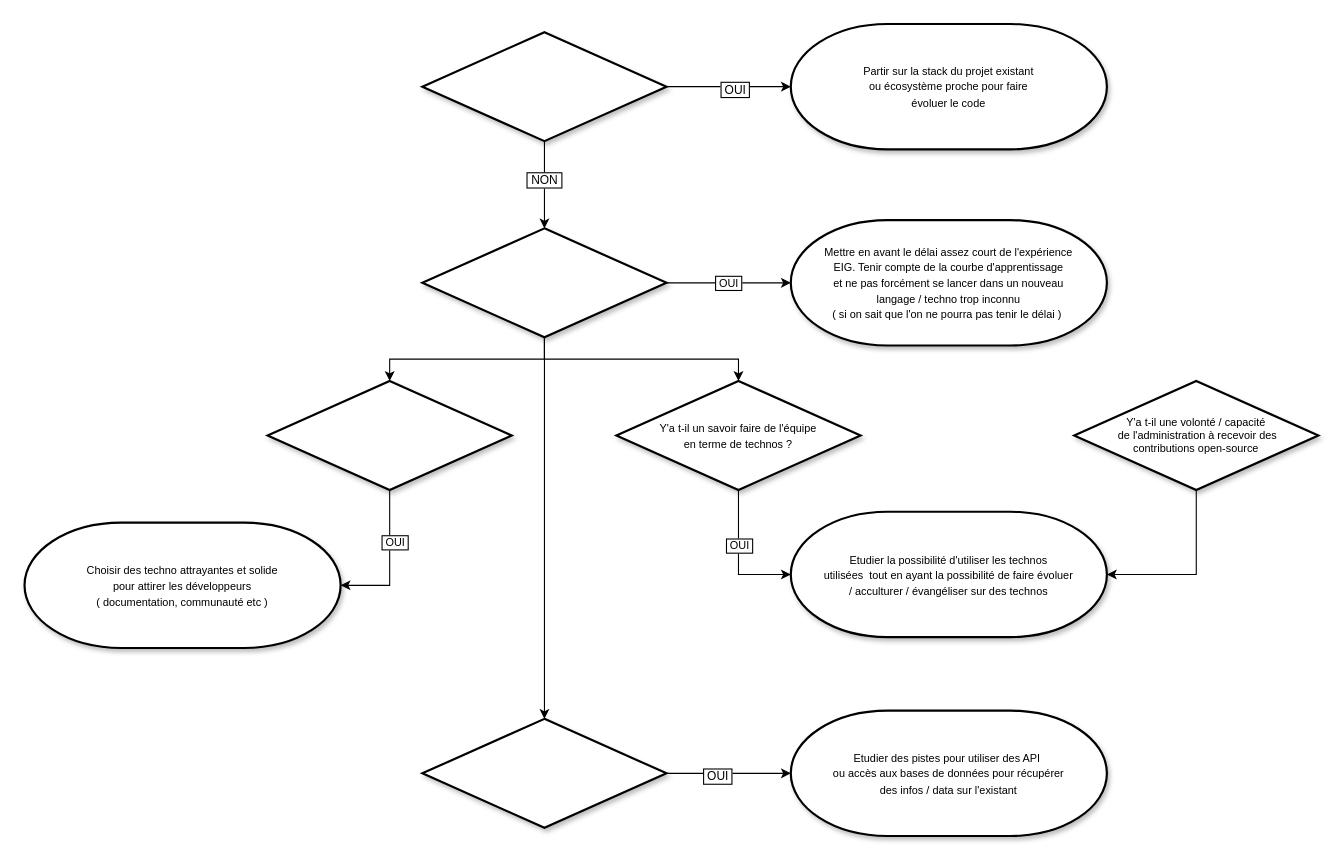
Some shapes in this 1344 by 863 pixel diagram are drawn without their labels. The shapes that lost their labels are listed below. From the top down, each one's centre as x and y in pixels, then its label:
At (545,87): "Le projet doit-il s'intégrer techniquement dans un projet existant".
At (545,284): "Y'a t-il des savoir-faire et des appétences personnelles".
At (390,436): "Y'a t-il une volonté de préparer et faciliter le recrutement".
At (545,774): "Est-ce le projet doit communiquer avec un système existant ?".
